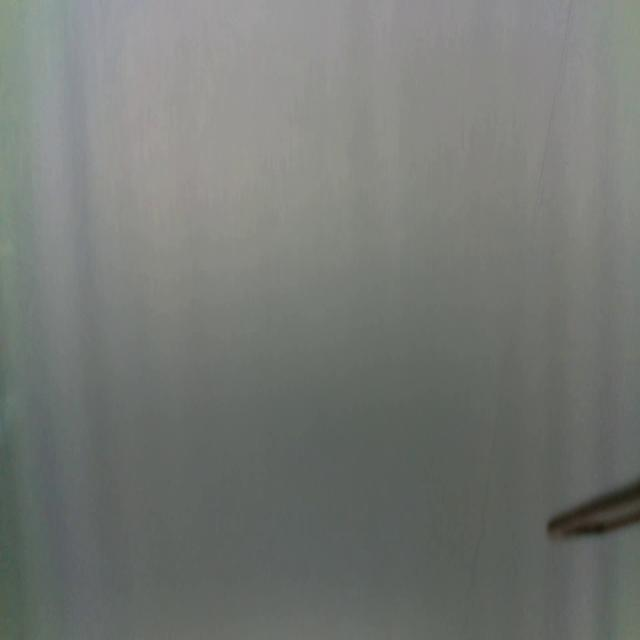crease: (464, 0, 573, 590)
